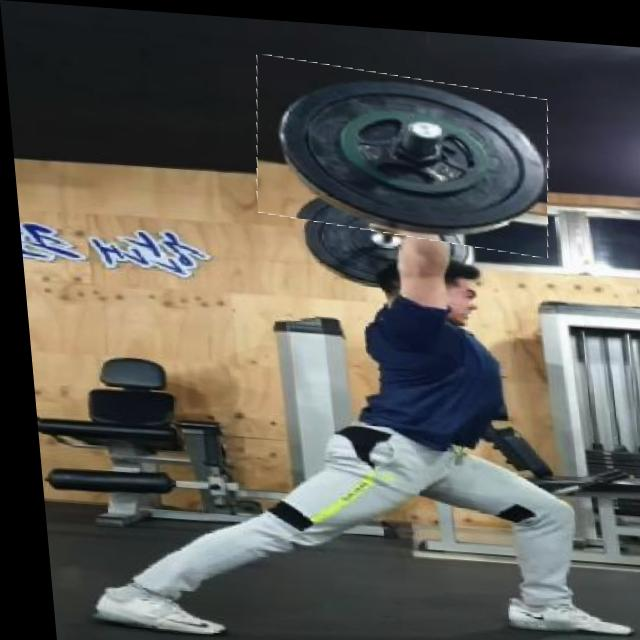barbell: (248, 57, 555, 246)
